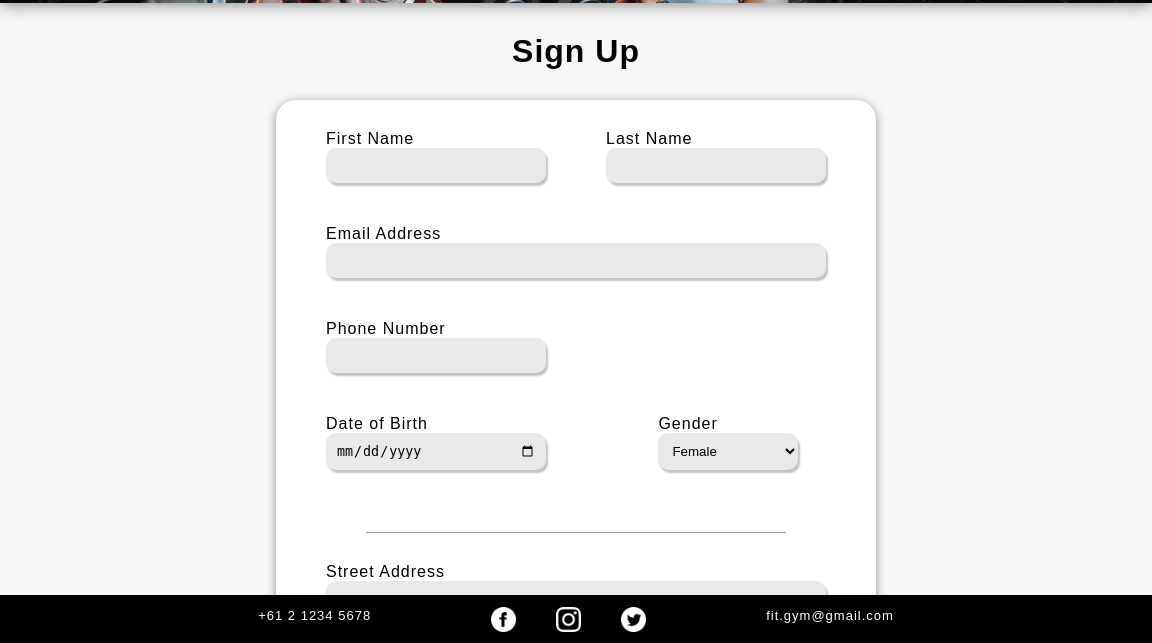
Test: Ensures sign up form inputs meet minimum requirements › Displays error for invalid email address
Step 1. Type "invalid.email" into the field labelled "Email Address" → (576, 260), box 326,243 -> 826,278
(page scrolled)
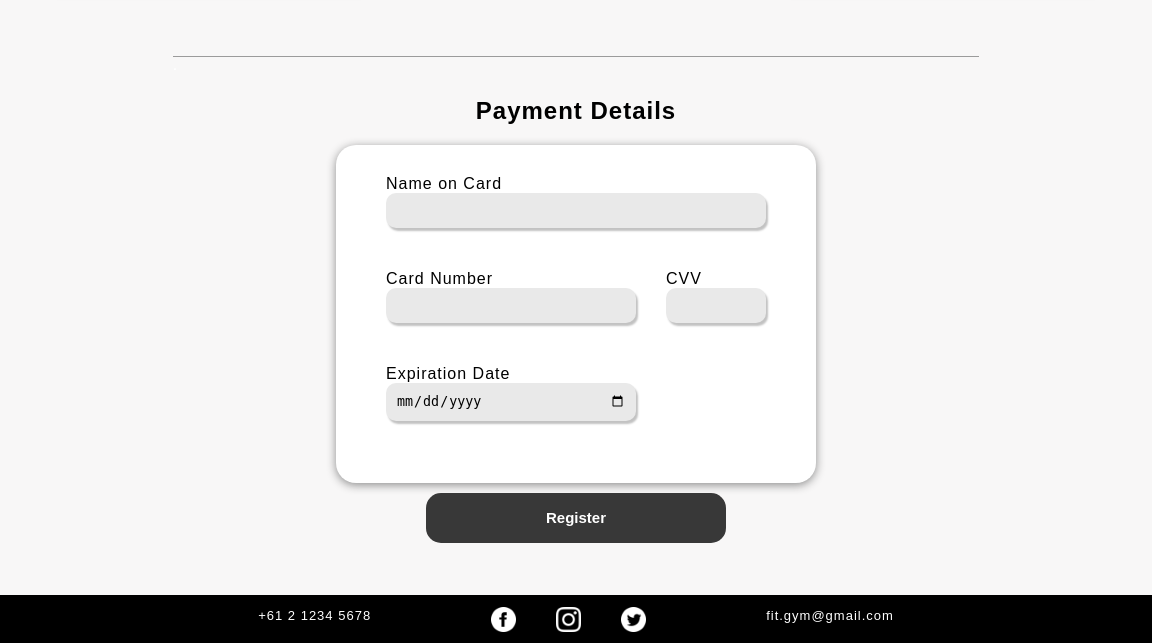
Step 2. Click the button "Register" → click(576, 518), box 426,493 -> 726,543
(page scrolled)
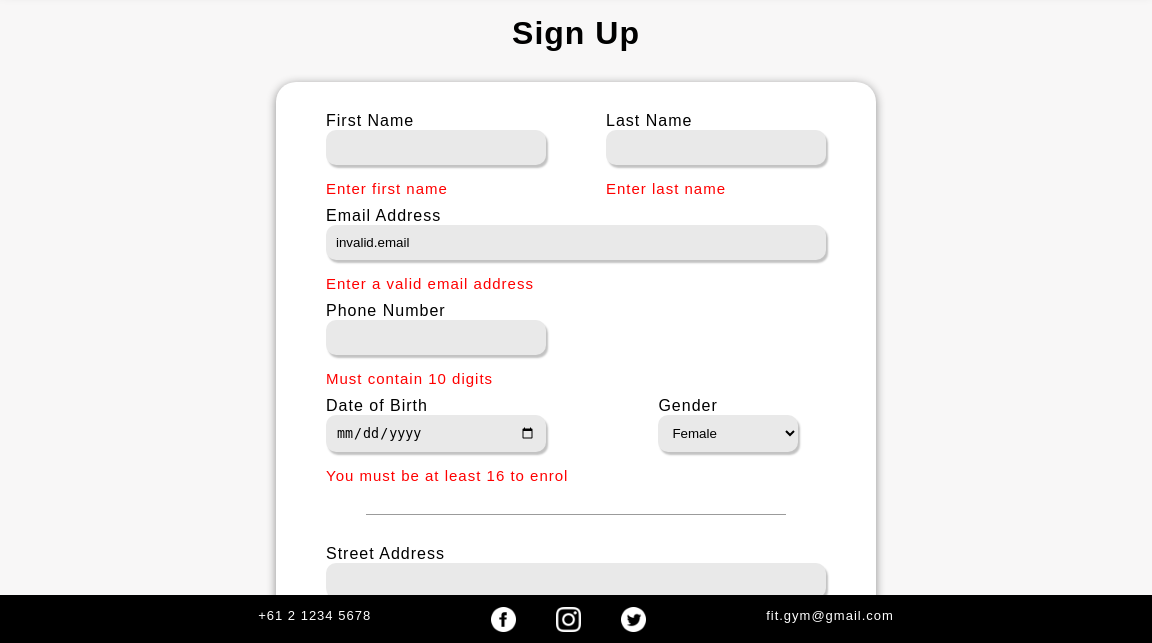
Expected: the text "Enter a valid email address" is shown, 326,275 -> 534,292
